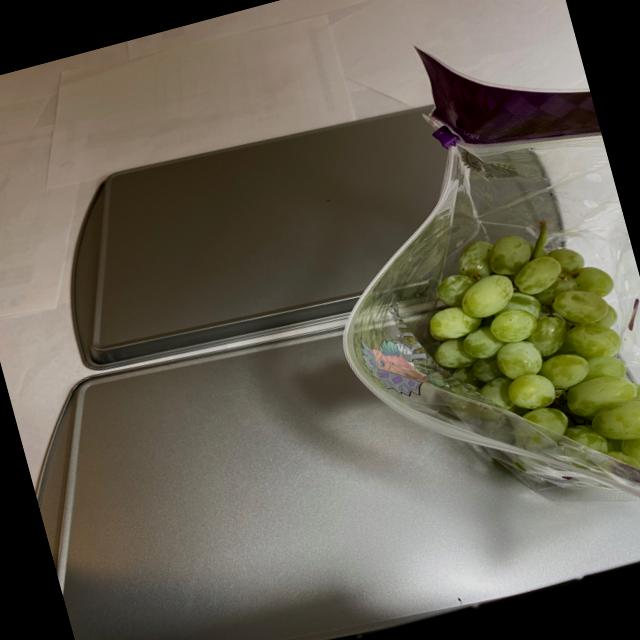grapes: (400, 189, 640, 531)
